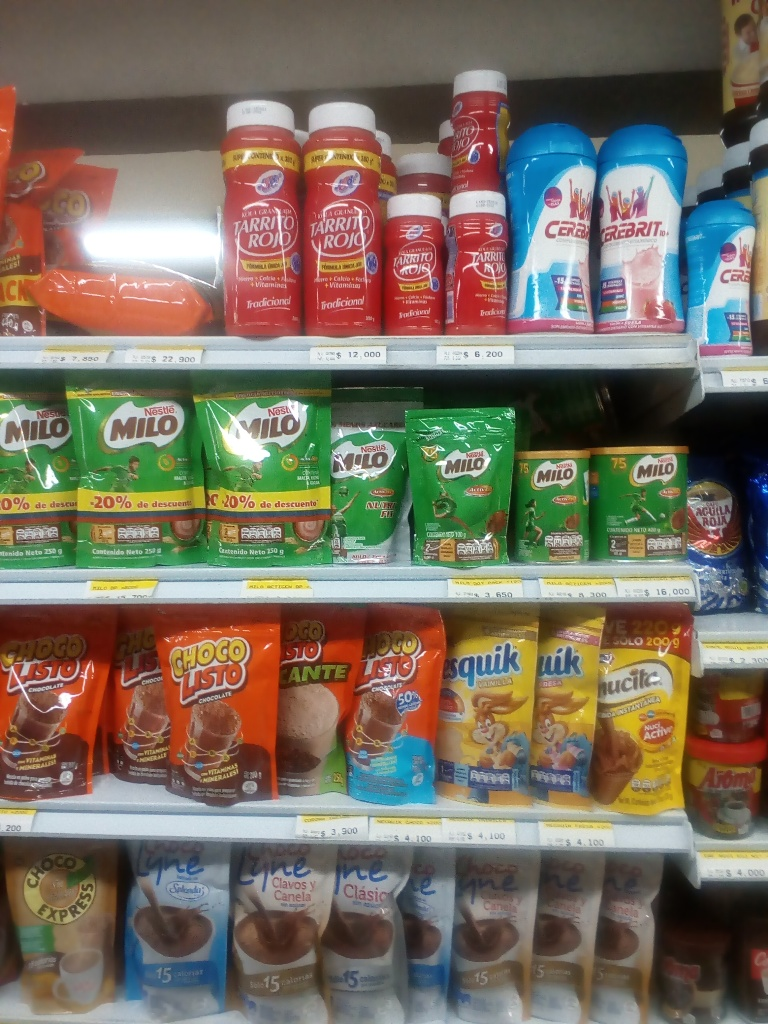COL0170102DYP25000: (270, 600, 350, 798)
COL0170104DYP20000: (349, 598, 447, 805)
COL0170203DYP10000: (403, 407, 517, 568)
COL0170203DYP25000: (188, 368, 332, 569)
COL0170203LAT20000: (514, 448, 591, 564)
COL0170203LAT40000: (588, 441, 688, 565)
COL0170205DYP20000: (325, 379, 429, 564)
COL0170305DYP20000: (528, 600, 618, 809)
COL0170306DYP20000: (437, 599, 533, 807)
